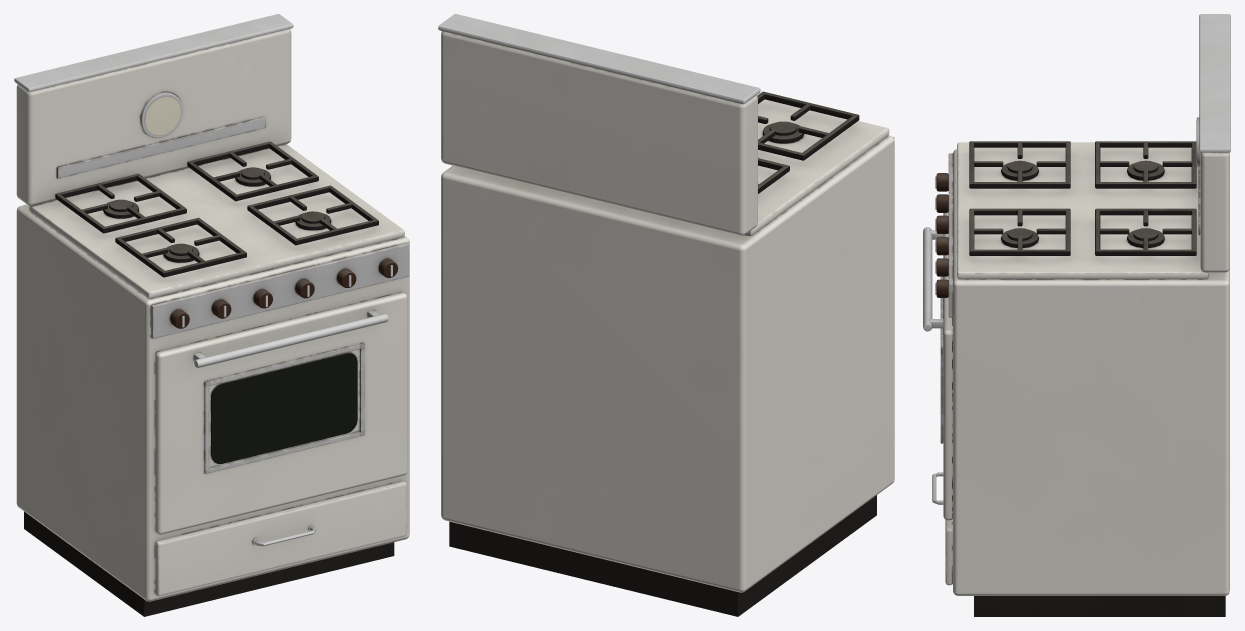
File: stove_white.glb
The picture shows the model from 3 angles, left to right: view 1: azimuth 30°, elevation 25°; view 2: azimuth 150°, elevation 25°; view 3: azimuth 270°, elevation 25°; orthographic projection. The views are drawn at different scales.
Parts seen in each view (by area): view 1: stove_white; view 2: stove_white; view 3: stove_white.
Boxes of the visible parts, x1,y1,x2,y2 form: stove_white: (14,14,409,616); stove_white: (438,14,894,616); stove_white: (923,14,1230,616).
Bounding box in the file's own units: 0.7641 × 1.24 × 0.7335.
1 material, 1 textured.
